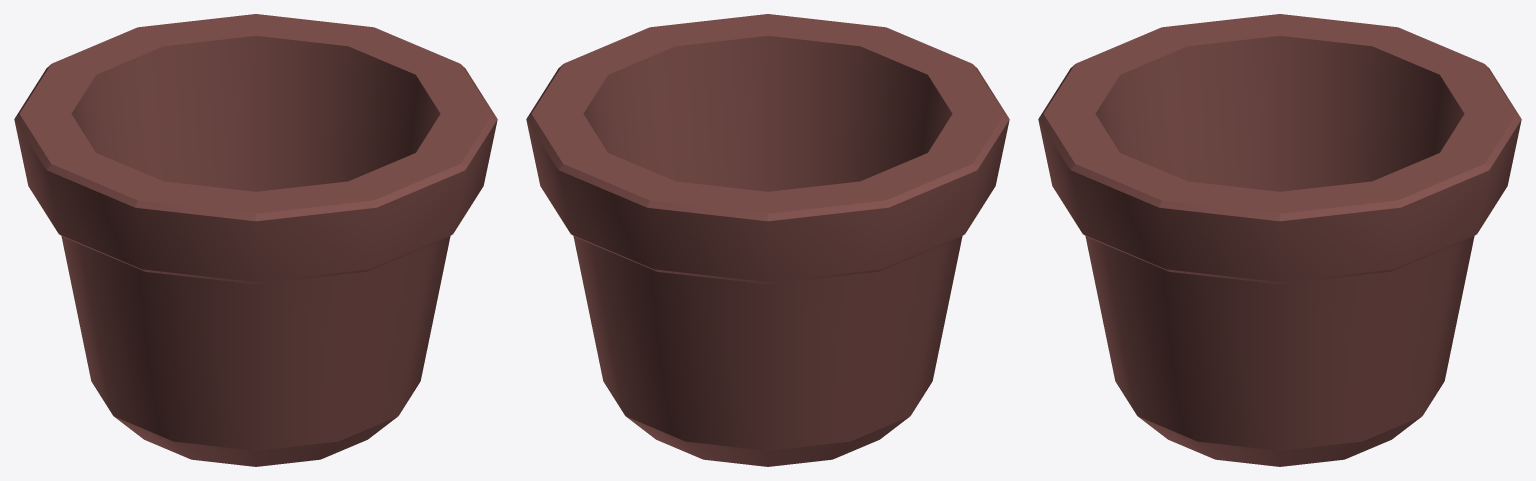
File: Vaso1.fbx
3 views of the same model, side by side, from view 1: azimuth 30°, elevation 25°; view 2: azimuth 150°, elevation 25°; view 3: azimuth 270°, elevation 25° (orthographic).
Parts seen in each view (by area): view 1: Vaso1; view 2: Vaso1; view 3: Vaso1.
Boxes of the visible parts, x1,y1,x2,y2 form: Vaso1: [14, 14, 497, 466]; Vaso1: [526, 14, 1009, 466]; Vaso1: [1038, 14, 1521, 466].
Size of the model in its own units: 0.2833 by 0.1931 by 0.2833.
